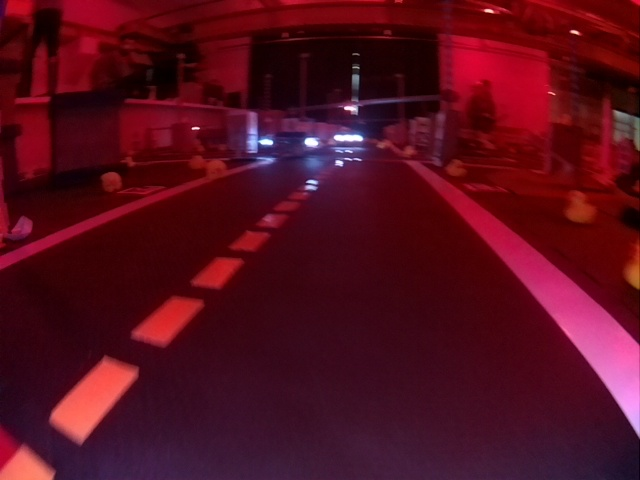Duckie: (566, 192, 596, 222), (102, 173, 119, 192), (448, 160, 465, 176), (207, 161, 226, 175), (188, 154, 204, 169)
Duckiebot: (260, 132, 316, 158), (334, 132, 364, 146)
